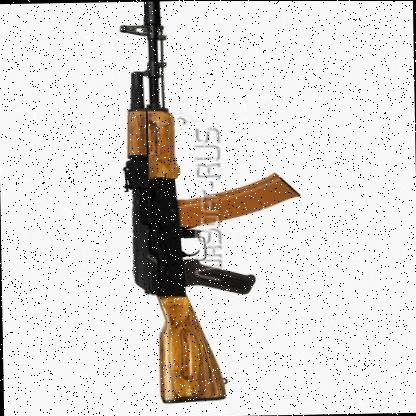rifle: (97, 0, 318, 407)
